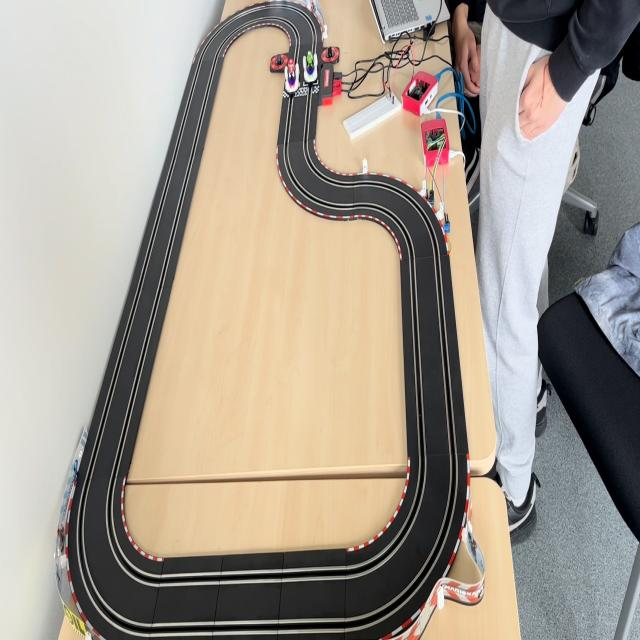mario: (284, 57, 300, 95)
yoshi: (304, 51, 318, 85)
